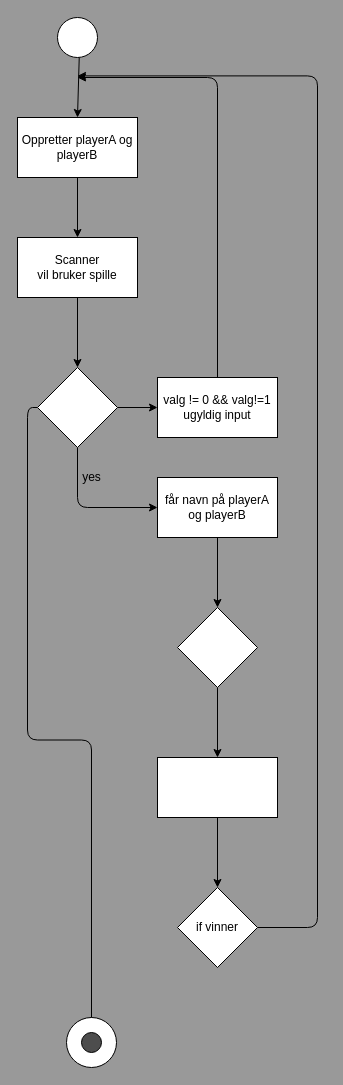
Image size: 343x1085. Some labels were removed from this diagram. Each missing label, with the centre of its shape:
if: point (77, 407)
playerA og playerB kastTerning: point (217, 787)
while valg==1: point (217, 647)
